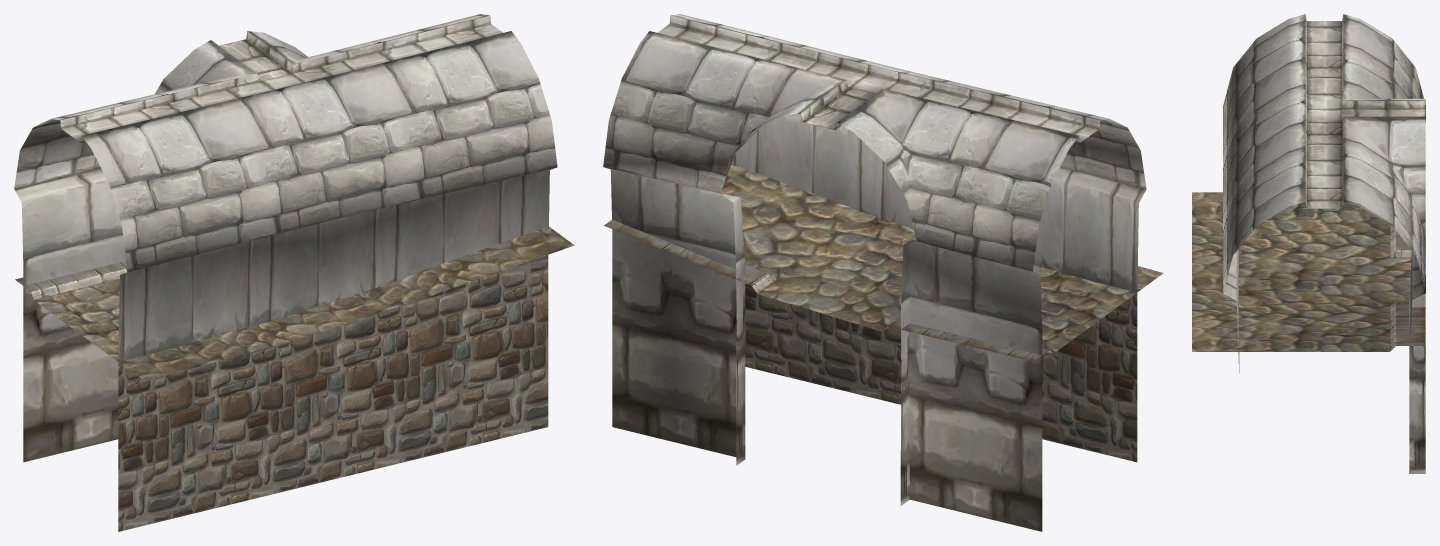
The model's file is stormwind_038.fbx.
The picture shows the model from 3 angles, left to right: view 1: azimuth 30°, elevation 25°; view 2: azimuth 150°, elevation 25°; view 3: azimuth 270°, elevation 25°; orthographic projection. The views are drawn at different scales.
Parts seen in each view (by area): view 1: stormwind_038_4, stormwind_038_3, stormwind_038_11, stormwind_038_46, stormwind_038_5, stormwind_038_12; view 2: stormwind_038_11, stormwind_038_4, stormwind_038_46, stormwind_038_3, stormwind_038_5, stormwind_038_12; view 3: stormwind_038_4, stormwind_038_46, stormwind_038_5, stormwind_038_11, stormwind_038_12.
Boxes of the visible parts, x1=… form: stormwind_038_4: x1=14, y1=14, x2=557, y2=271; stormwind_038_3: x1=118, y1=259, x2=548, y2=531; stormwind_038_11: x1=14, y1=167, x2=554, y2=462; stormwind_038_46: x1=34, y1=226, x2=574, y2=381; stormwind_038_5: x1=60, y1=15, x2=502, y2=142; stormwind_038_12: x1=15, y1=261, x2=127, y2=300; stormwind_038_11: x1=605, y1=114, x2=1146, y2=531; stormwind_038_4: x1=603, y1=14, x2=1146, y2=271; stormwind_038_46: x1=720, y1=164, x2=1163, y2=353; stormwind_038_3: x1=745, y1=283, x2=1137, y2=462; stormwind_038_5: x1=657, y1=15, x2=1100, y2=142; stormwind_038_12: x1=604, y1=219, x2=1052, y2=361; stormwind_038_4: x1=1223, y1=14, x2=1425, y2=292; stormwind_038_46: x1=1192, y1=192, x2=1411, y2=351; stormwind_038_5: x1=1305, y1=14, x2=1425, y2=208; stormwind_038_11: x1=1223, y1=248, x2=1425, y2=473; stormwind_038_12: x1=1390, y1=225, x2=1425, y2=351.
Bounding box in the file's own units: 22.03 × 18.07 × 11.6.
